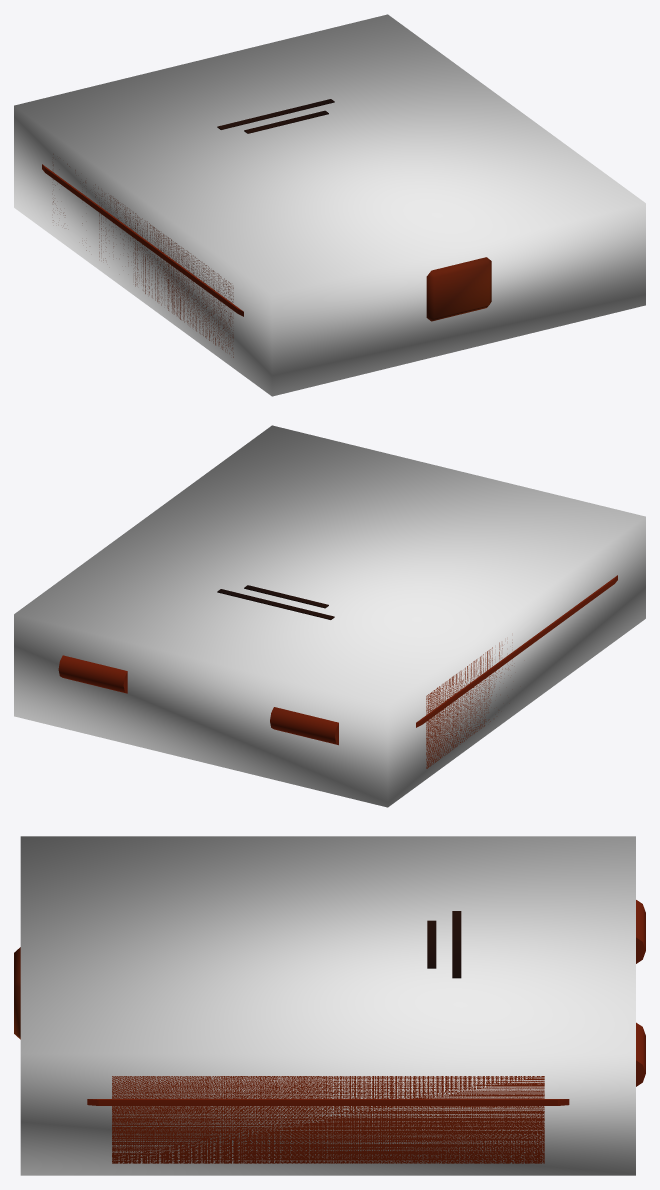
Rendered from botiquin_militar.glb.
The picture shows the model from 3 angles, top to bottom: view 1: azimuth 30°, elevation 25°; view 2: azimuth 150°, elevation 25°; view 3: azimuth 270°, elevation 25°; orthographic projection. The views are drawn at different scales.
Parts seen in each view (by area): view 1: botiquin-colcaja, botiquin; view 2: botiquin-colcaja, botiquin; view 3: botiquin-colcaja, botiquin.
Boxes of the visible parts, <box> form: botiquin-colcaja: <box>14,14,645,396</box>; botiquin: <box>42,99,491,357</box>; botiquin-colcaja: <box>14,425,645,807</box>; botiquin: <box>58,575,617,768</box>; botiquin-colcaja: <box>20,836,635,1175</box>; botiquin: <box>14,900,645,1163</box>.
Size of the model in its own units: 0.0928 by 0.0242 by 0.113.
